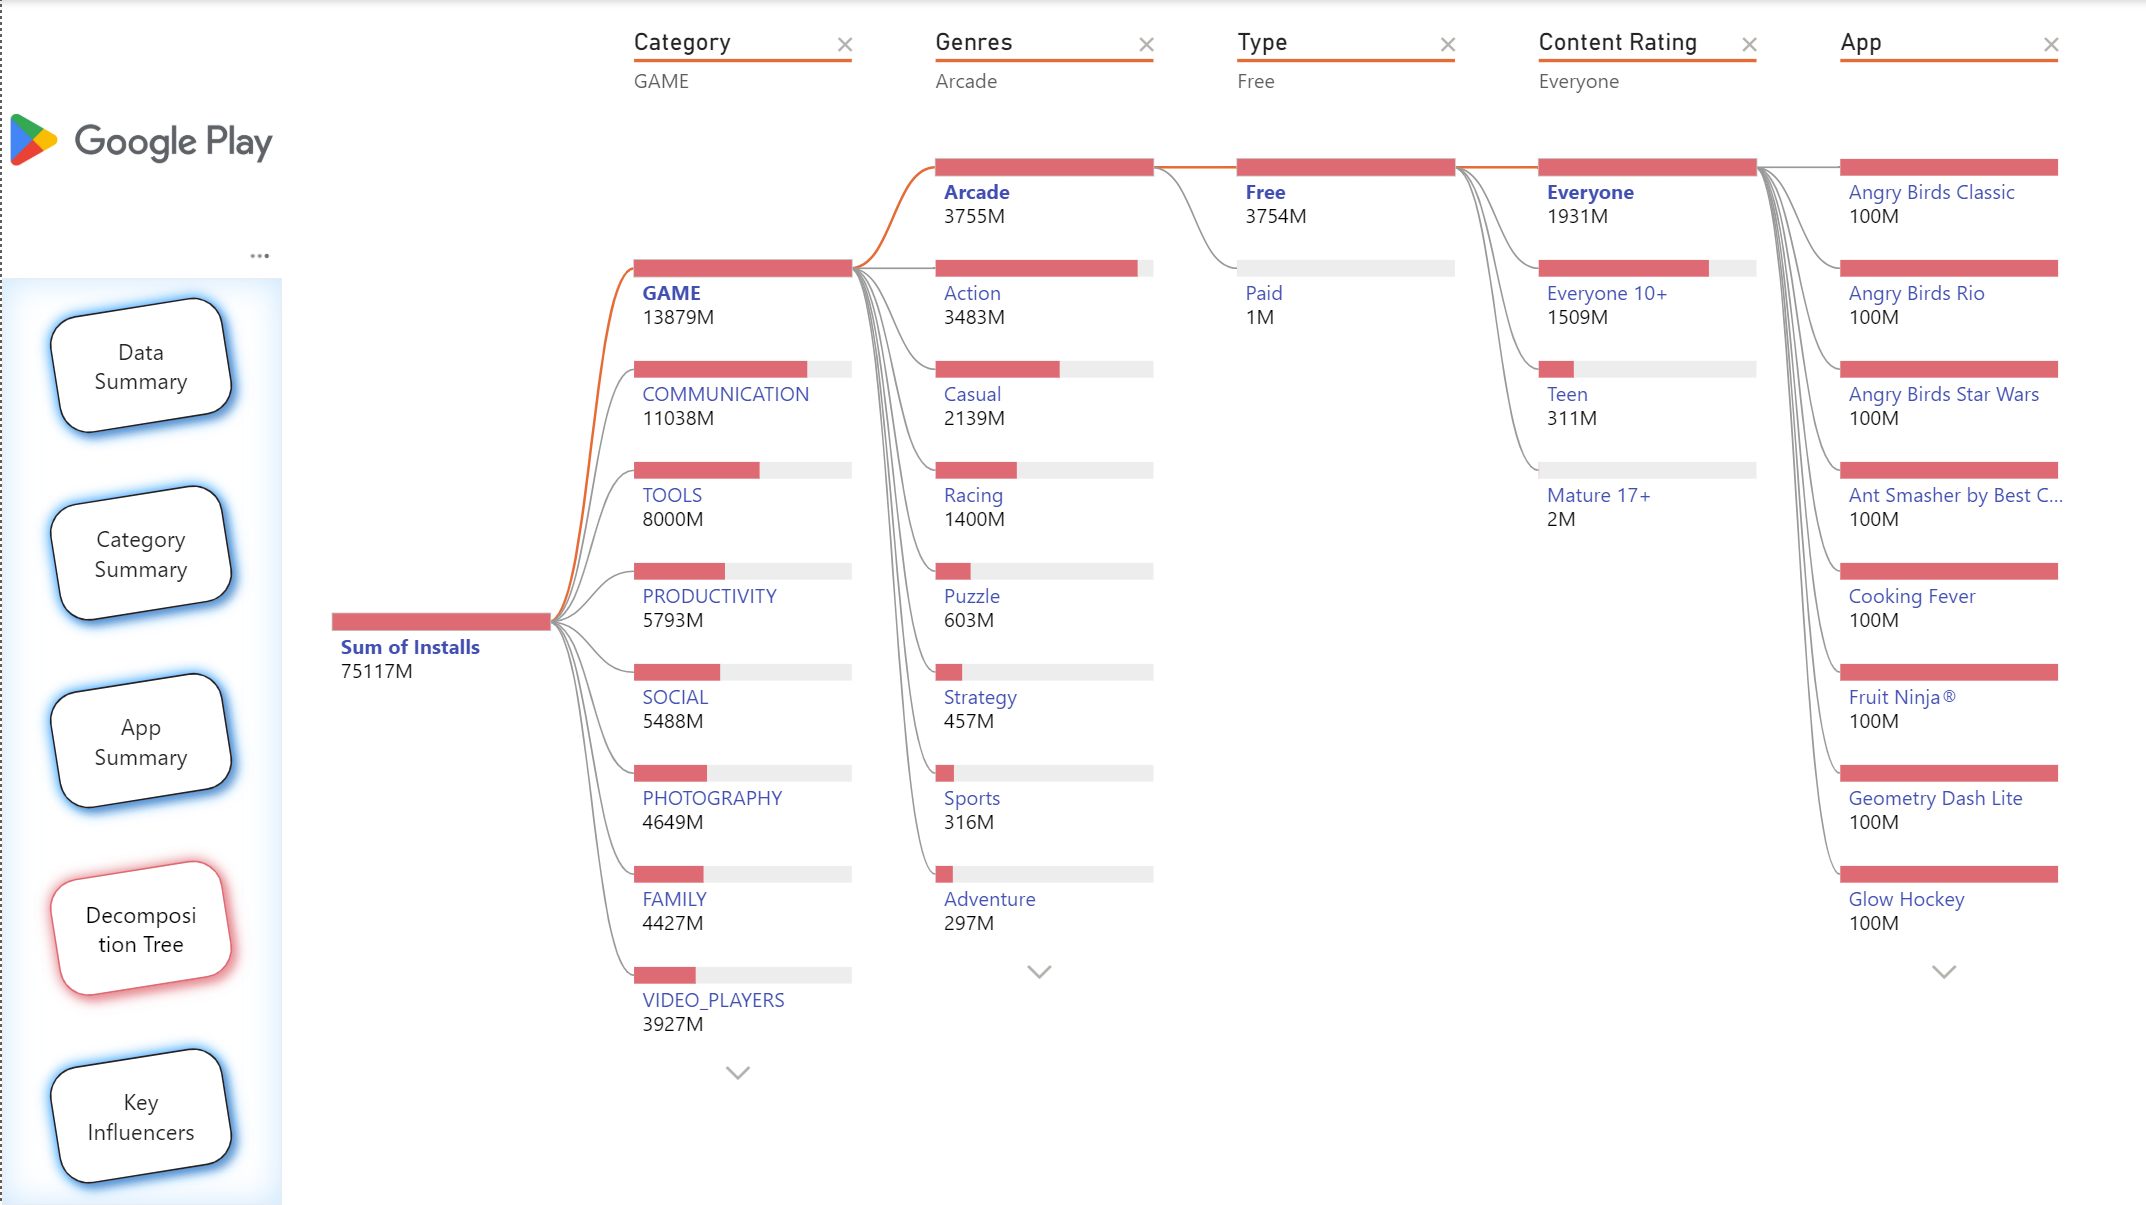

Layout of this report page (visuals, bound fields, positions):
{"tool":"powerbi","page":{"name":"Decomposition Tree","canvas":[1280,720],"ordinal":3},"visuals":[{"type":"image","box":[0,0,166.7,166.7],"z":0},{"type":"decompositionTreeVisual","fields":{"Analyze":["Sum(Play Store Data.Installs)"],"ExplainBy":["Play Store Data.Category","Play Store Data.Genres","Play Store Data.Type","Play Store Data.Content Rating","Play Store Data.App"]},"box":[166.7,0,1113.2,720.1],"z":1000},{"type":"pageNavigator","box":[0,166.5,166.7,553.5],"z":2000}]}

Visuals, with their boxes on the page's 1280x720 design canvas (x1, y1, x2, y2). These are canvas units, not pixel positions in the 2146x1205 screenshot, which may show the page scaled, cropped or inside an application window:
image: {"left": 0, "top": 0, "right": 167, "bottom": 167}
decompositionTreeVisual - Sum(Play Store Data.Installs) x Play Store Data.Category: {"left": 167, "top": 0, "right": 1280, "bottom": 720}
pageNavigator: {"left": 0, "top": 166, "right": 167, "bottom": 720}
